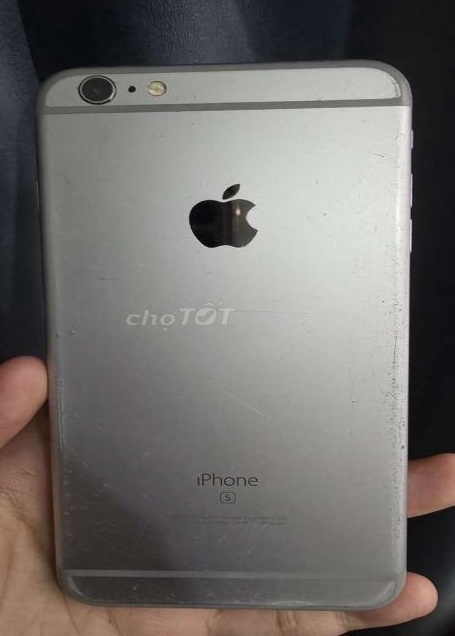scratch: (85, 459, 322, 555), (40, 303, 86, 601), (112, 580, 378, 617), (390, 119, 410, 576), (217, 384, 286, 426), (365, 59, 418, 112), (336, 369, 384, 425)
